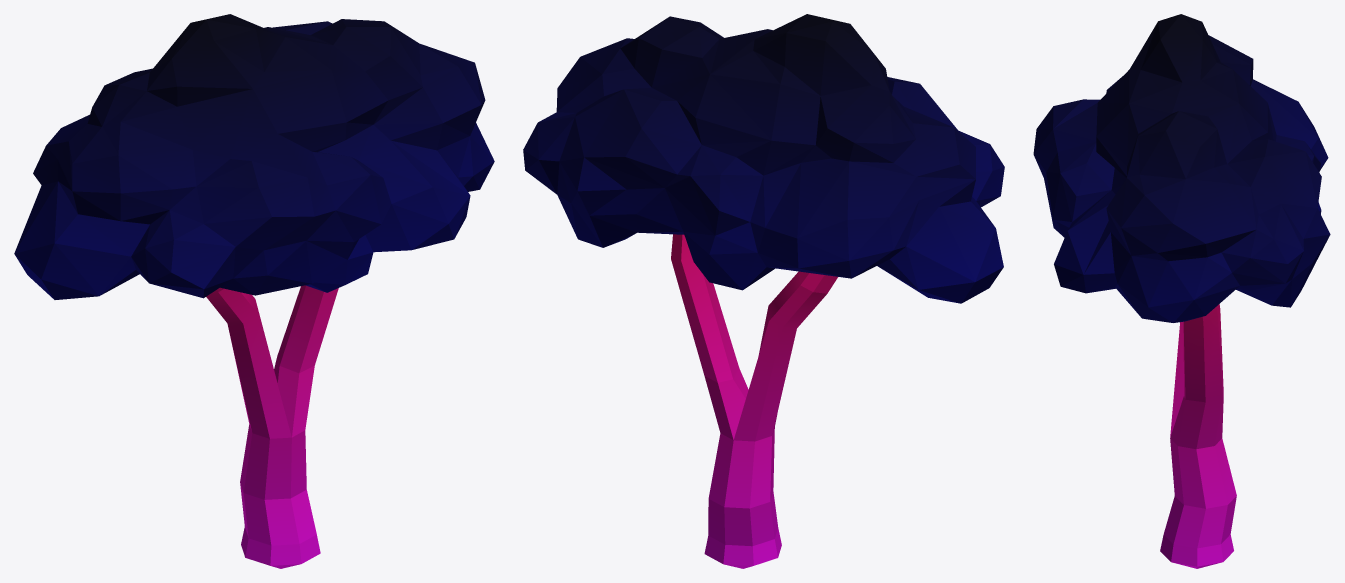
The model's file is synty-tree-round-02.gltf.
The picture shows the model from 3 angles, left to right: view 1: azimuth 30°, elevation 25°; view 2: azimuth 150°, elevation 25°; view 3: azimuth 270°, elevation 25°; orthographic projection. The views are drawn at different scales.
Visible parts, largest first — view 1: SM_Tree_Round_02; view 2: SM_Tree_Round_02; view 3: SM_Tree_Round_02.
Boxes of the visible parts, bbox=[...] form: SM_Tree_Round_02: bbox=[14, 14, 494, 568]; SM_Tree_Round_02: bbox=[523, 14, 1004, 568]; SM_Tree_Round_02: bbox=[1033, 14, 1330, 568].
Bounding box in the file's own units: 3.86 × 4.73 × 2.46.
